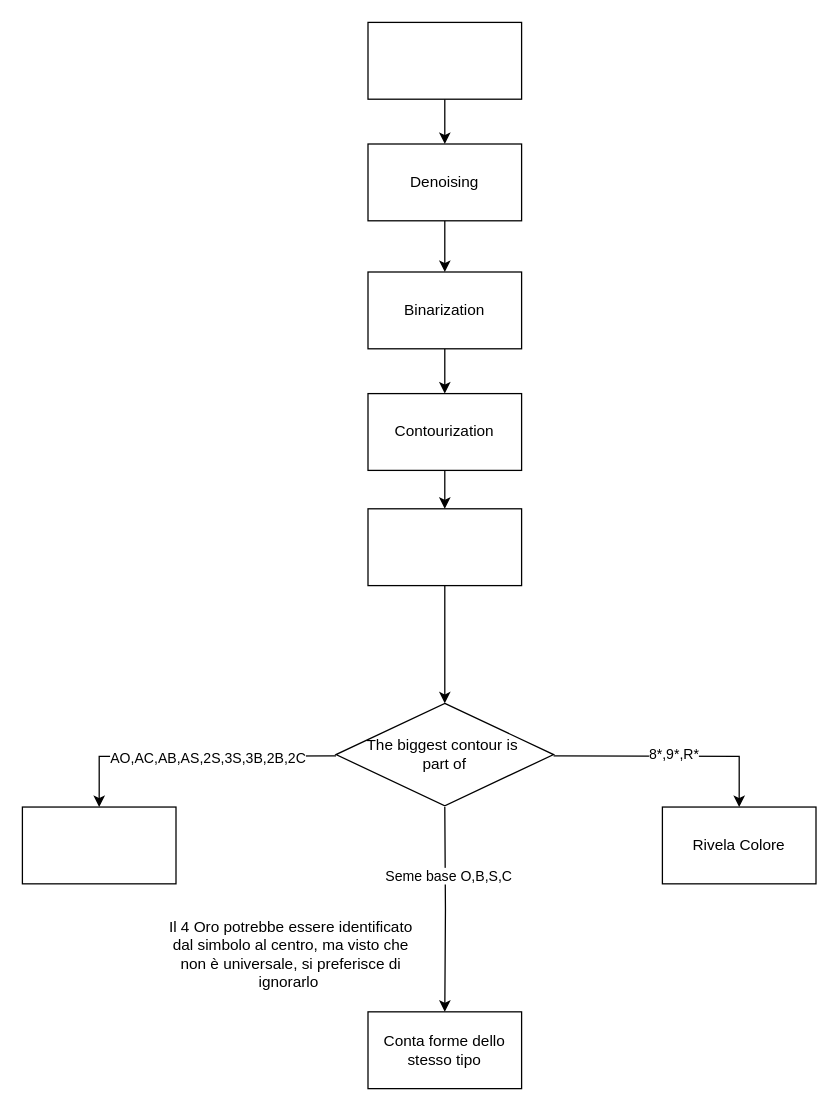
This 838x1111 diagram has some shape labels left out. Here are the shapes that lost their labels. From the top down, the box of each, then its label:
(367, 21, 522, 99): Immagine Carta
(367, 508, 522, 586): Order Contours by Area
(21, 806, 176, 884): FINE
